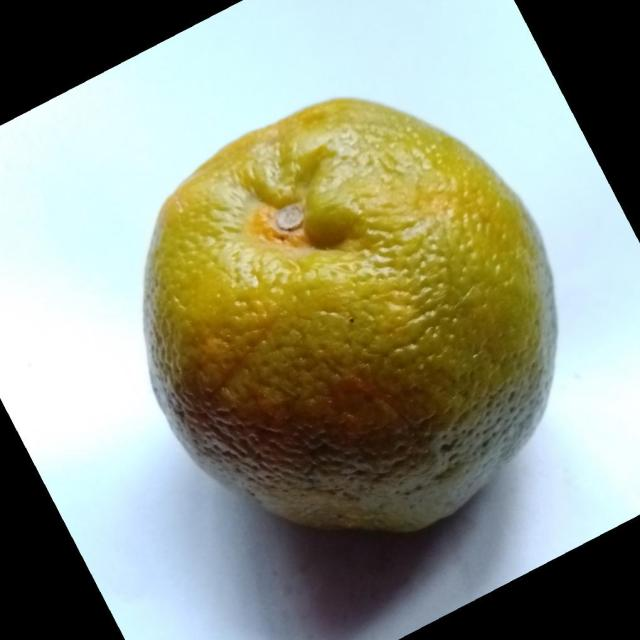fresh orange: (141, 96, 558, 534)
